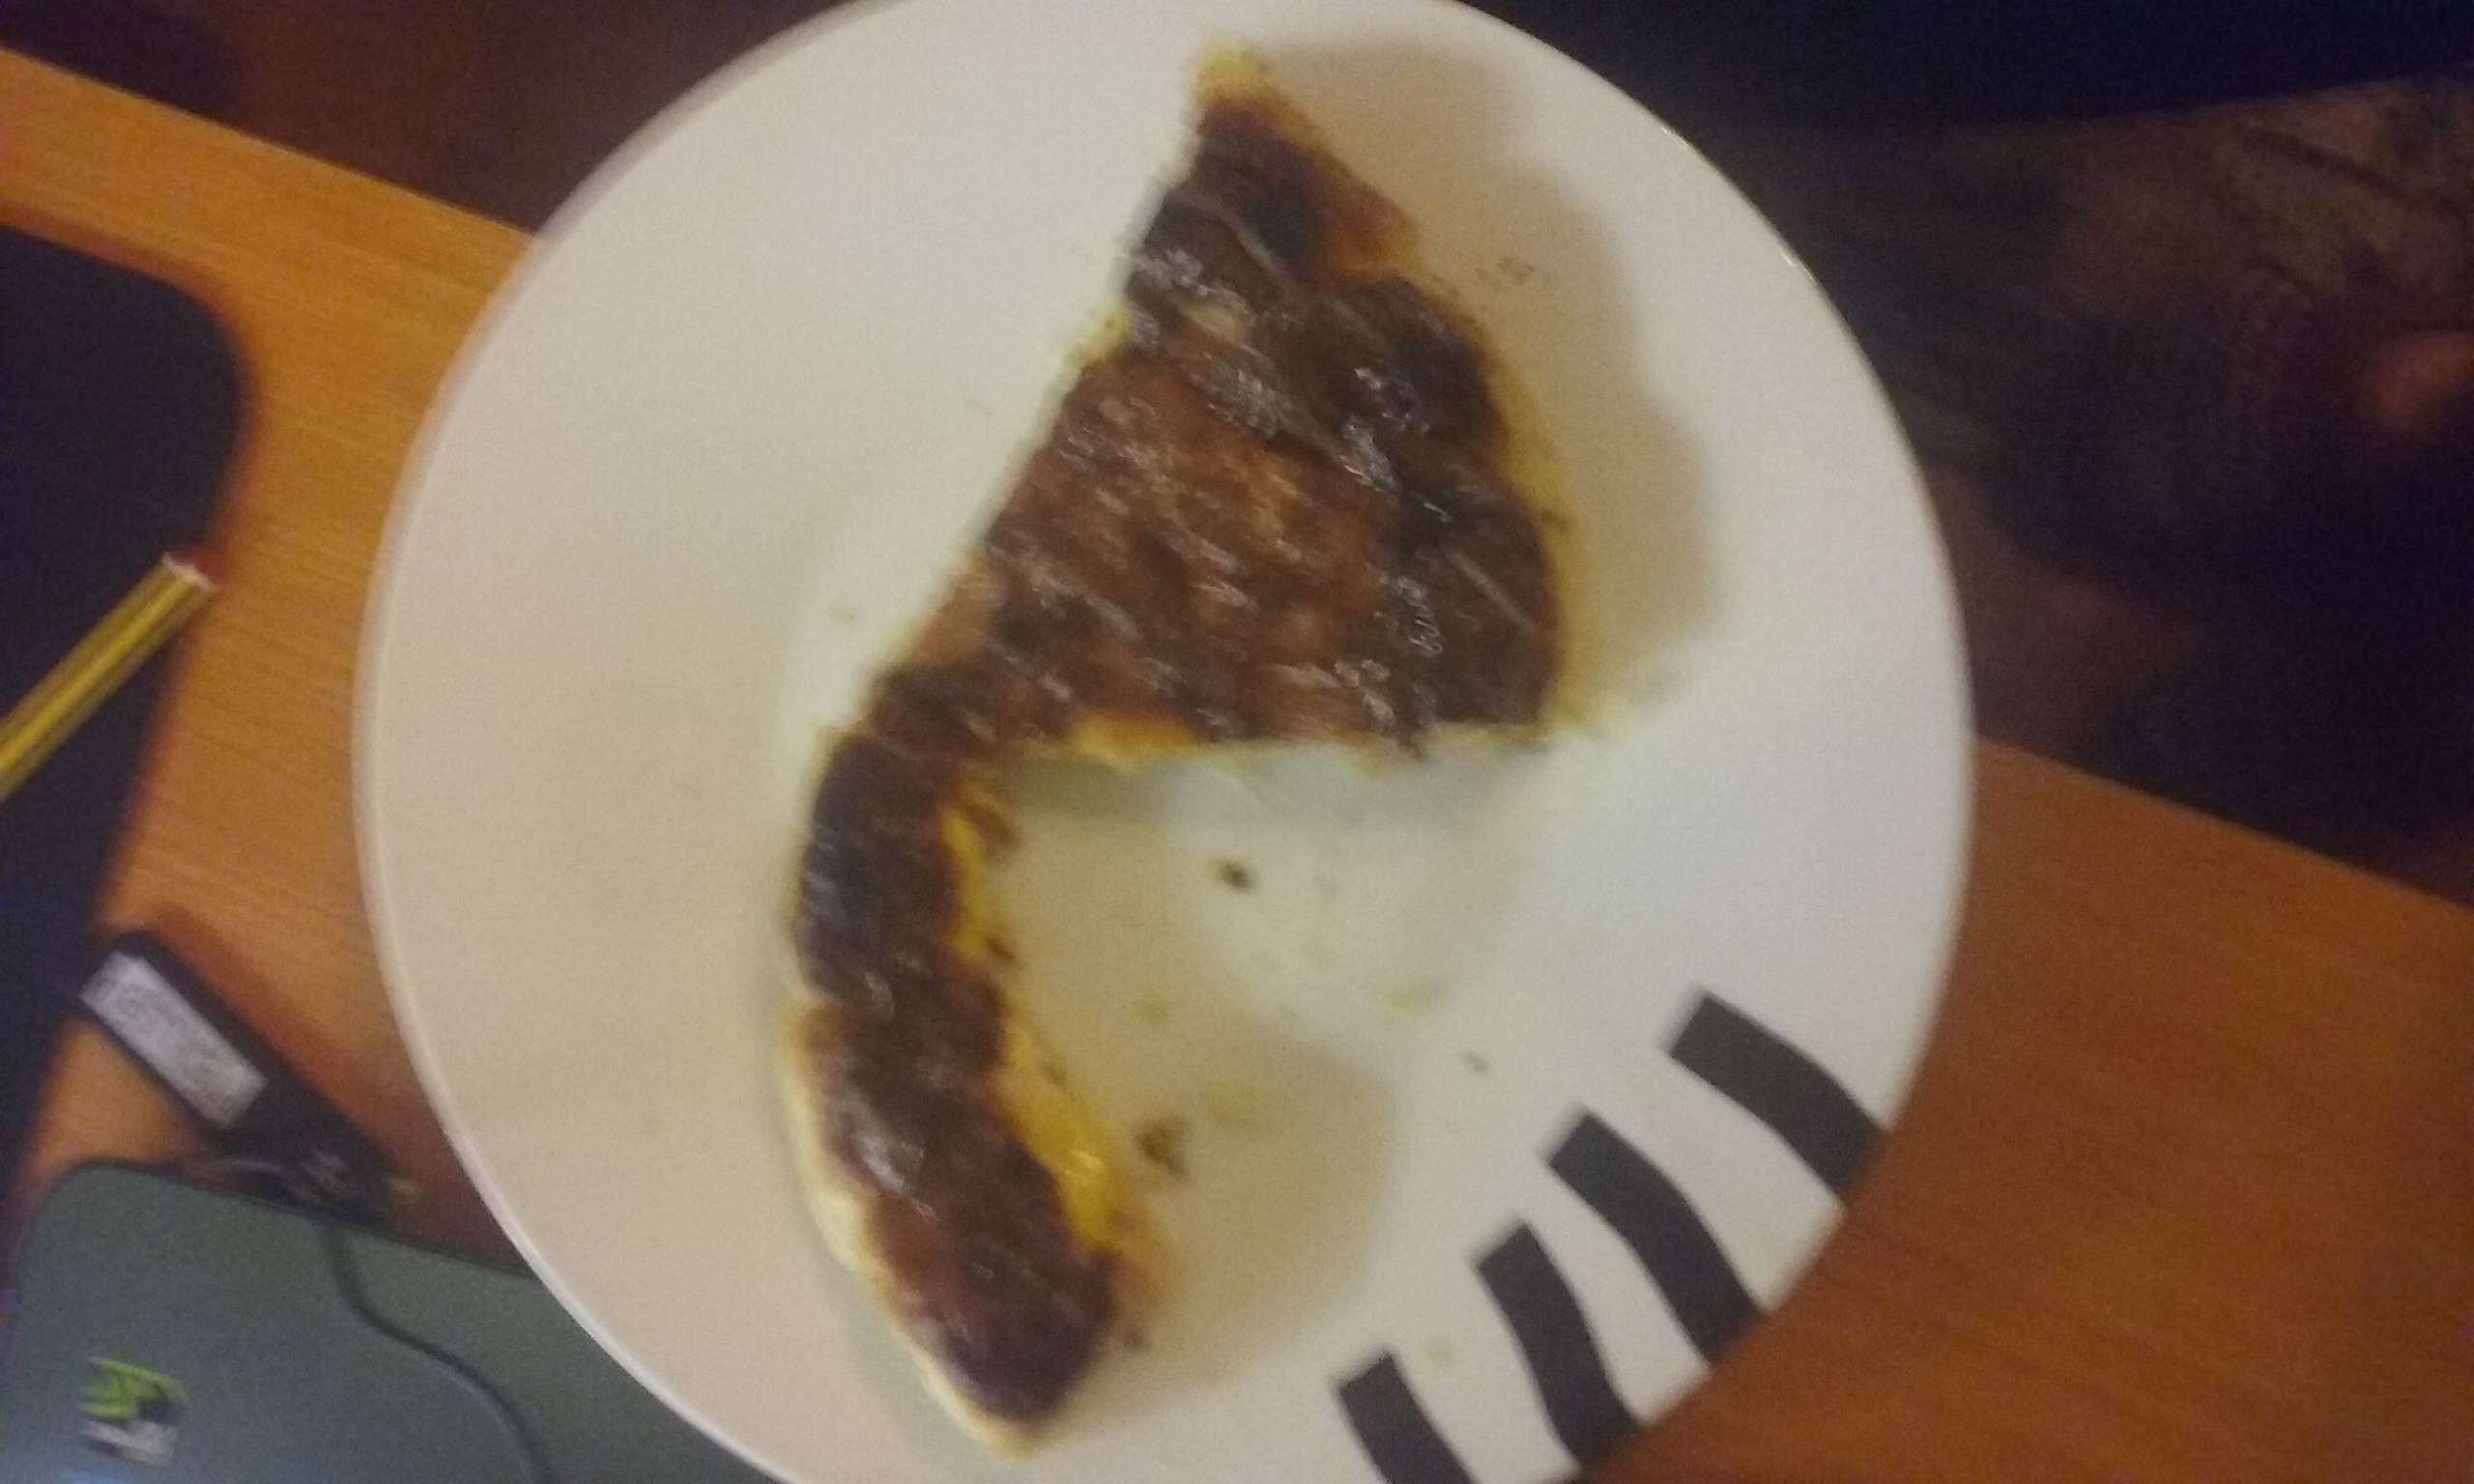61-80: (396, 28, 1993, 1466)
